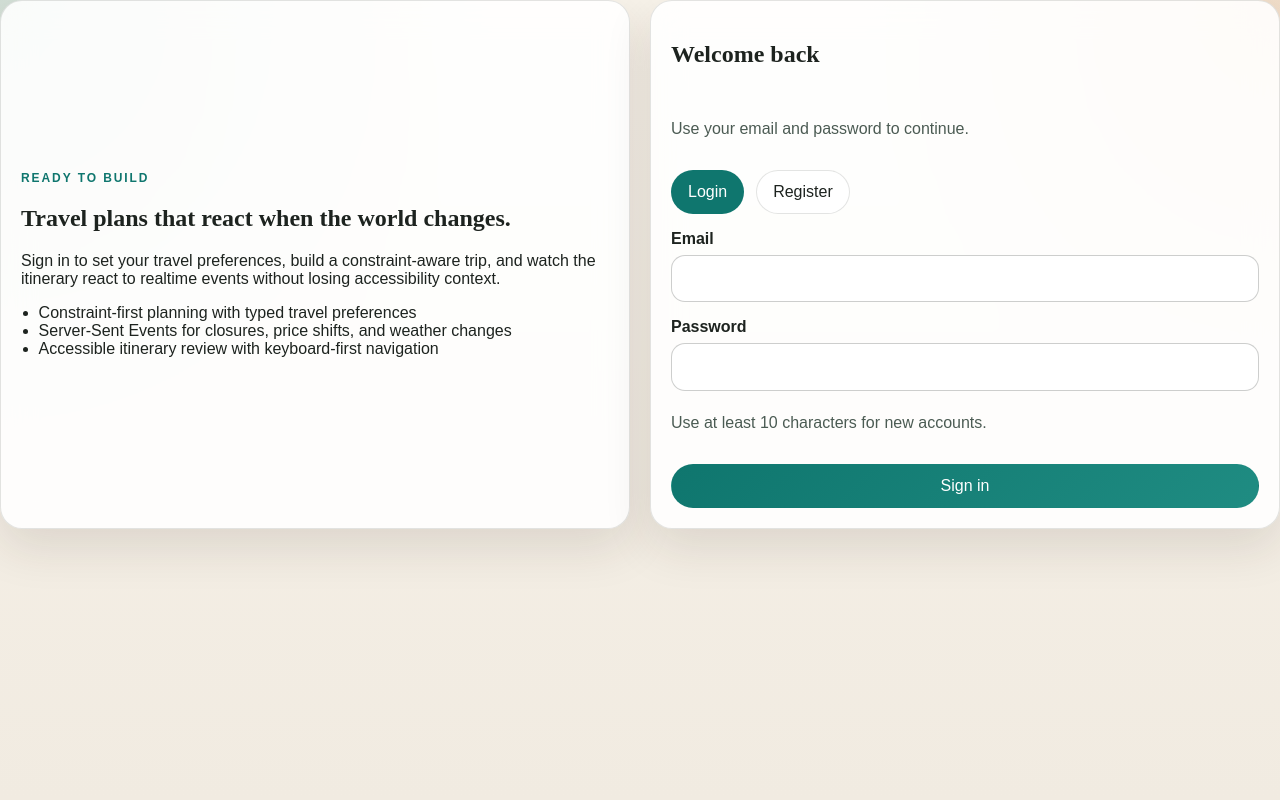
Test: AuthPage – client-side validation › shows 'Email is required.' when submitted with empty email
The image size is (1280, 800).
Click the button "Sign in" at (965, 486), box [671,464,1259,508]
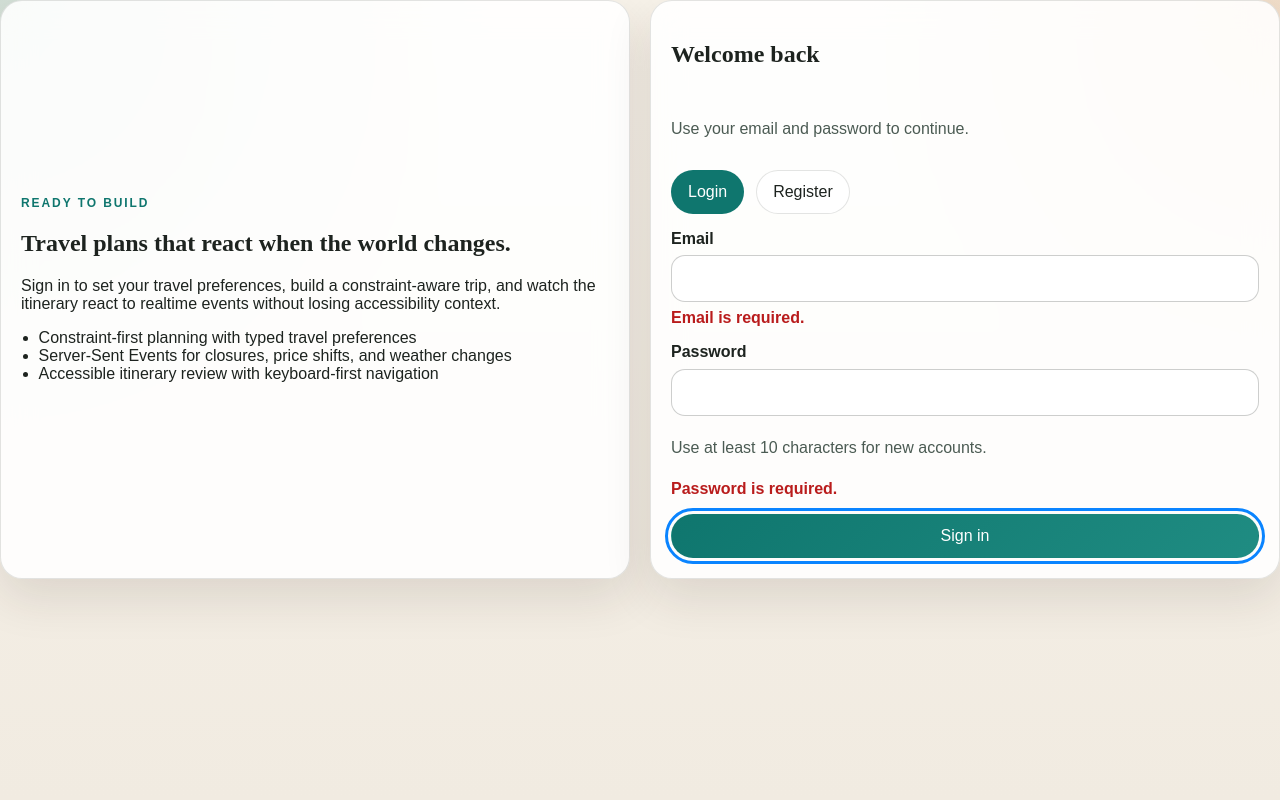
Expected: the text "Email is required." is shown, [671,309,804,326]
